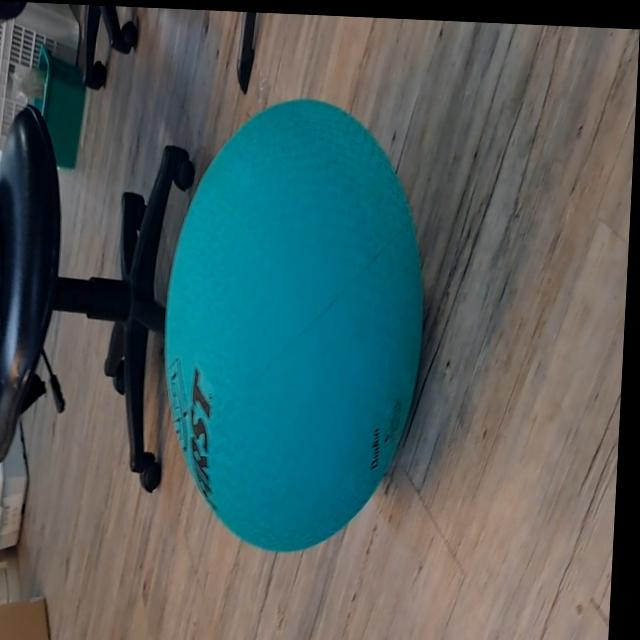ALGAE: (151, 91, 437, 561)
